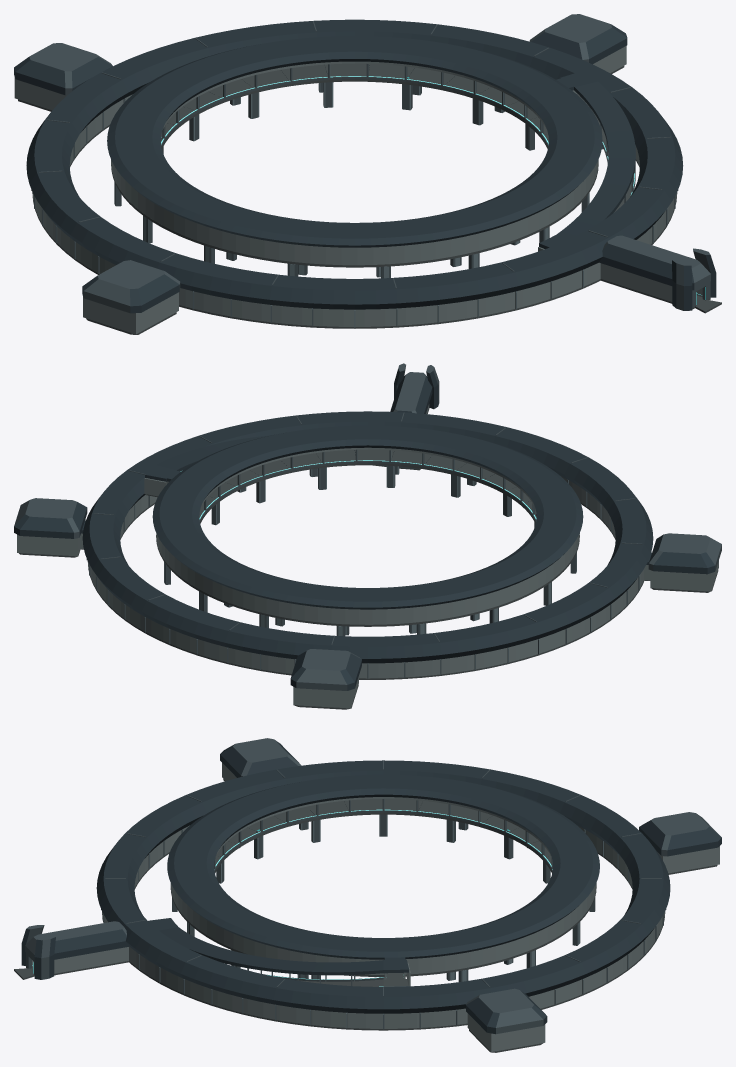
Rendered from Surface_Base_Facility_Godot.glb.
3 renders of one model, top to bottom at view 1: azimuth 30°, elevation 25°; view 2: azimuth 150°, elevation 25°; view 3: azimuth 270°, elevation 25°, orthographic. The views are drawn at different scales.
Visible parts, largest first — view 1: Ring_Faceted_Removable_Ceiling_Hull, Gallery_Removable_Faceted_Ceiling_Hull, Gallery_Outer_Wall_02, Ring_Outer_Wall_04_With_Recess, Gallery_Raised_Observation_Floor, Wing_03_Maintenance_Removable_Faceted_Ceiling_Hull, Wing_02_Resonance_Removable_Faceted_Ceiling_Hull, Wing_01_Command_Removable_Faceted_Ceiling_Hull, Entry_Removable_Throat_Ceiling_Hull, Gallery_Inner_Faceted_Parapet, Ring_Continuous_Level_0_Floor, Ring_Outer_Wall_03_With_Recess (+7 smaller); view 2: Ring_Faceted_Removable_Ceiling_Hull, Gallery_Removable_Faceted_Ceiling_Hull, Gallery_Outer_Wall_02, Gallery_Raised_Observation_Floor, Ring_Outer_Wall_03_With_Recess, Ring_Outer_Wall_02_With_Recess, Wing_02_Resonance_Removable_Faceted_Ceiling_Hull, Wing_01_Command_Removable_Faceted_Ceiling_Hull, Wing_03_Maintenance_Removable_Faceted_Ceiling_Hull, Entry_Removable_Throat_Ceiling_Hull, Ring_Continuous_Level_0_Floor, Gallery_Inner_Faceted_Parapet (+5 smaller); view 3: Ring_Faceted_Removable_Ceiling_Hull, Gallery_Removable_Faceted_Ceiling_Hull, Gallery_Outer_Wall_02, Gallery_Raised_Observation_Floor, Ring_Outer_Wall_05_With_Recess, Wing_01_Command_Removable_Faceted_Ceiling_Hull, Wing_02_Resonance_Removable_Faceted_Ceiling_Hull, Entry_Removable_Throat_Ceiling_Hull, Wing_03_Maintenance_Removable_Faceted_Ceiling_Hull, Ring_Outer_Wall_02_With_Recess, Ring_Outer_Wall_01_With_Recess, Ring_Inner_Wall_01_With_Recess (+7 smaller).
Part boxes in pixels (left/top/right/bottom): Ring_Faceted_Removable_Ceiling_Hull: left=26, top=19, right=683, bottom=309; Gallery_Removable_Faceted_Ceiling_Hull: left=107, top=36, right=602, bottom=247; Gallery_Outer_Wall_02: left=111, top=160, right=598, bottom=265; Ring_Outer_Wall_04_With_Recess: left=179, top=262, right=600, bottom=326; Gallery_Raised_Observation_Floor: left=111, top=63, right=598, bottom=267; Wing_03_Maintenance_Removable_Faceted_Ceiling_Hull: left=82, top=260, right=180, bottom=313; Wing_02_Resonance_Removable_Faceted_Ceiling_Hull: left=14, top=43, right=112, bottom=95; Wing_01_Command_Removable_Faceted_Ceiling_Hull: left=529, top=14, right=627, bottom=64; Entry_Removable_Throat_Ceiling_Hull: left=599, top=235, right=710, bottom=290; Gallery_Inner_Faceted_Parapet: left=161, top=76, right=548, bottom=147; Ring_Continuous_Level_0_Floor: left=32, top=124, right=677, bottom=328; Ring_Outer_Wall_03_With_Recess: left=32, top=193, right=115, bottom=273; Ring_Faceted_Removable_Ceiling_Hull: left=82, top=411, right=653, bottom=663; Gallery_Removable_Faceted_Ceiling_Hull: left=152, top=425, right=583, bottom=609; Gallery_Outer_Wall_02: left=156, top=533, right=579, bottom=624; Gallery_Raised_Observation_Floor: left=156, top=449, right=579, bottom=626; Ring_Outer_Wall_03_With_Recess: left=359, top=569, right=643, bottom=678; Ring_Outer_Wall_02_With_Recess: left=88, top=562, right=296, bottom=673; Wing_02_Resonance_Removable_Faceted_Ceiling_Hull: left=290, top=649, right=361, bottom=690; Wing_01_Command_Removable_Faceted_Ceiling_Hull: left=14, top=498, right=87, bottom=538; Wing_03_Maintenance_Removable_Faceted_Ceiling_Hull: left=648, top=533, right=721, bottom=574; Entry_Removable_Throat_Ceiling_Hull: left=390, top=372, right=432, bottom=413; Ring_Continuous_Level_0_Floor: left=87, top=502, right=644, bottom=679; Gallery_Inner_Faceted_Parapet: left=199, top=461, right=536, bottom=522; Ring_Faceted_Removable_Ceiling_Hull: left=96, top=760, right=670, bottom=1013; Gallery_Removable_Faceted_Ceiling_Hull: left=167, top=774, right=599, bottom=959; Gallery_Outer_Wall_02: left=170, top=883, right=596, bottom=974; Gallery_Raised_Observation_Floor: left=170, top=799, right=596, bottom=976; Ring_Outer_Wall_05_With_Recess: left=129, top=946, right=382, bottom=1028; Wing_01_Command_Removable_Faceted_Ceiling_Hull: left=466, top=988, right=547, bottom=1034; Wing_02_Resonance_Removable_Faceted_Ceiling_Hull: left=639, top=812, right=721, bottom=856; Entry_Removable_Throat_Ceiling_Hull: left=25, top=921, right=129, bottom=960; Wing_03_Maintenance_Removable_Faceted_Ceiling_Hull: left=220, top=738, right=301, bottom=777; Ring_Outer_Wall_02_With_Recess: left=529, top=911, right=665, bottom=1008; Ring_Outer_Wall_01_With_Recess: left=384, top=1008, right=467, bottom=1028; Ring_Inner_Wall_01_With_Recess: left=134, top=825, right=632, bottom=887.
Size of the model in its own units: 394 by 31 by 412.
